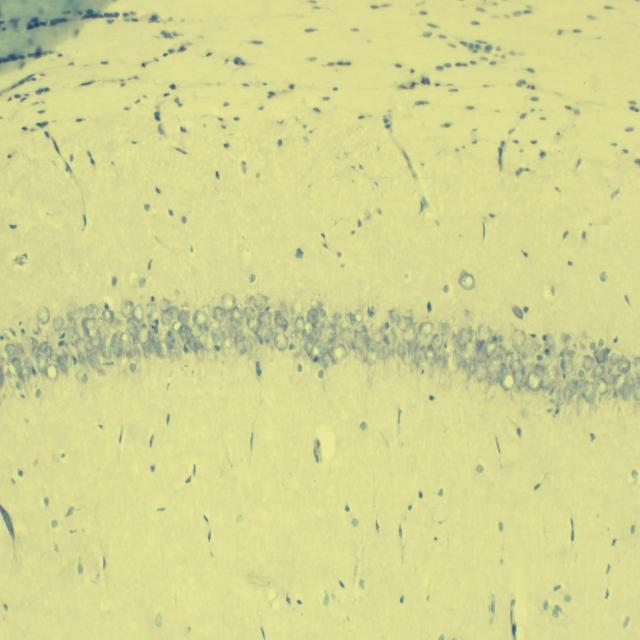neuron: (185, 326, 199, 356), (56, 347, 70, 376), (354, 329, 368, 357), (486, 353, 504, 374), (352, 326, 367, 351), (532, 350, 552, 368), (331, 343, 348, 364), (86, 350, 102, 372), (540, 368, 556, 389), (612, 372, 628, 393), (452, 334, 467, 356), (111, 330, 122, 359), (126, 317, 137, 346), (220, 293, 237, 311), (137, 324, 152, 344), (290, 332, 302, 357), (274, 310, 288, 331), (458, 273, 475, 290), (622, 377, 634, 401), (67, 326, 80, 348), (193, 309, 208, 328), (308, 342, 322, 362), (527, 372, 541, 392), (564, 380, 578, 400), (426, 344, 438, 367), (26, 319, 42, 336), (512, 329, 527, 347), (45, 363, 59, 382), (36, 306, 50, 325), (66, 300, 78, 322), (120, 332, 132, 354), (196, 326, 208, 348), (476, 360, 488, 382), (35, 354, 48, 374), (40, 340, 53, 360), (583, 380, 594, 403), (274, 333, 288, 351), (322, 351, 334, 372), (306, 308, 320, 326), (552, 389, 566, 407), (11, 358, 22, 380), (132, 304, 144, 324), (156, 338, 168, 358), (172, 322, 184, 342), (418, 321, 434, 336), (247, 316, 261, 333), (500, 373, 514, 390), (514, 372, 528, 389), (596, 347, 610, 364), (403, 325, 416, 343), (478, 324, 491, 342), (325, 323, 337, 342), (414, 348, 426, 367), (485, 339, 497, 358), (254, 294, 268, 310), (446, 356, 460, 372), (85, 328, 102, 341), (234, 334, 245, 354), (390, 330, 400, 352), (121, 300, 133, 318), (164, 331, 176, 349), (364, 334, 376, 352), (596, 378, 608, 396), (88, 336, 103, 350), (166, 306, 180, 321), (157, 297, 170, 313), (259, 311, 272, 327), (431, 333, 444, 349), (486, 371, 499, 387), (389, 309, 401, 326), (0, 356, 10, 376), (161, 312, 171, 332), (130, 345, 141, 363), (340, 328, 351, 346), (85, 304, 99, 318), (511, 361, 525, 375), (213, 307, 226, 322), (618, 359, 631, 374), (232, 307, 244, 323), (399, 316, 411, 332), (520, 343, 532, 359), (562, 349, 574, 365), (583, 355, 595, 371), (20, 365, 31, 382), (366, 349, 377, 366), (82, 317, 96, 330), (102, 310, 115, 324), (591, 365, 605, 378), (52, 316, 64, 331), (76, 337, 86, 355), (145, 301, 155, 319), (309, 299, 324, 311), (403, 350, 415, 365), (415, 332, 427, 347), (178, 310, 189, 326), (305, 337, 314, 356), (576, 378, 585, 397), (545, 333, 555, 350), (407, 339, 420, 352), (5, 343, 17, 357), (222, 336, 234, 350), (562, 360, 574, 374), (609, 352, 621, 366), (534, 364, 545, 379), (312, 326, 321, 344), (210, 328, 220, 344), (294, 316, 304, 332), (396, 343, 406, 359), (460, 328, 470, 344), (141, 338, 153, 351), (468, 326, 477, 343), (264, 327, 272, 345), (560, 333, 572, 345), (31, 345, 41, 359), (101, 345, 111, 359), (356, 347, 366, 361), (229, 317, 240, 329), (346, 312, 356, 325), (179, 325, 188, 339), (305, 322, 314, 336), (499, 362, 508, 376), (244, 307, 255, 318), (0, 366, 5, 390), (84, 340, 94, 352), (354, 310, 363, 323), (28, 336, 39, 346), (332, 312, 342, 323), (318, 308, 328, 318), (531, 341, 541, 351), (505, 352, 512, 366), (511, 352, 520, 362), (597, 338, 605, 349), (379, 347, 385, 360), (15, 380, 22, 391), (341, 320, 350, 328), (577, 370, 584, 378), (590, 342, 596, 351)
